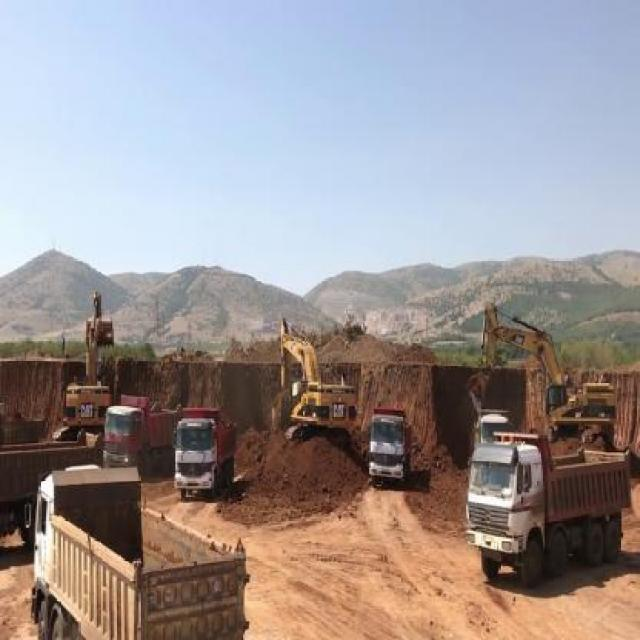Dump Truck: (24, 460, 248, 638), (460, 429, 629, 586), (170, 412, 227, 494), (366, 402, 411, 484), (107, 402, 158, 458)
Excavator: (458, 301, 614, 424), (262, 318, 356, 445), (53, 290, 116, 432)
